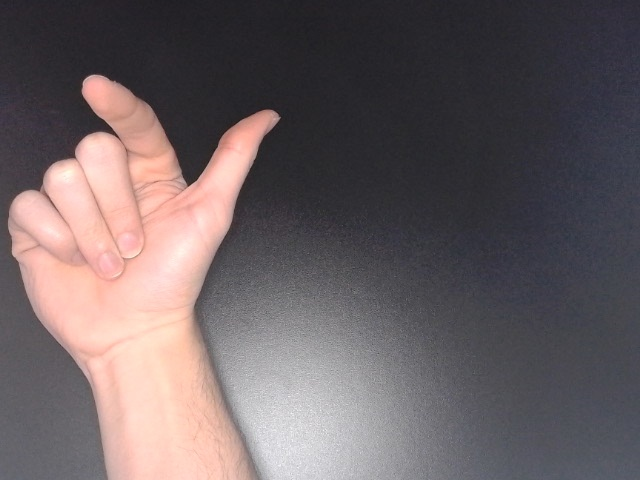t: (2, 68, 287, 379)
